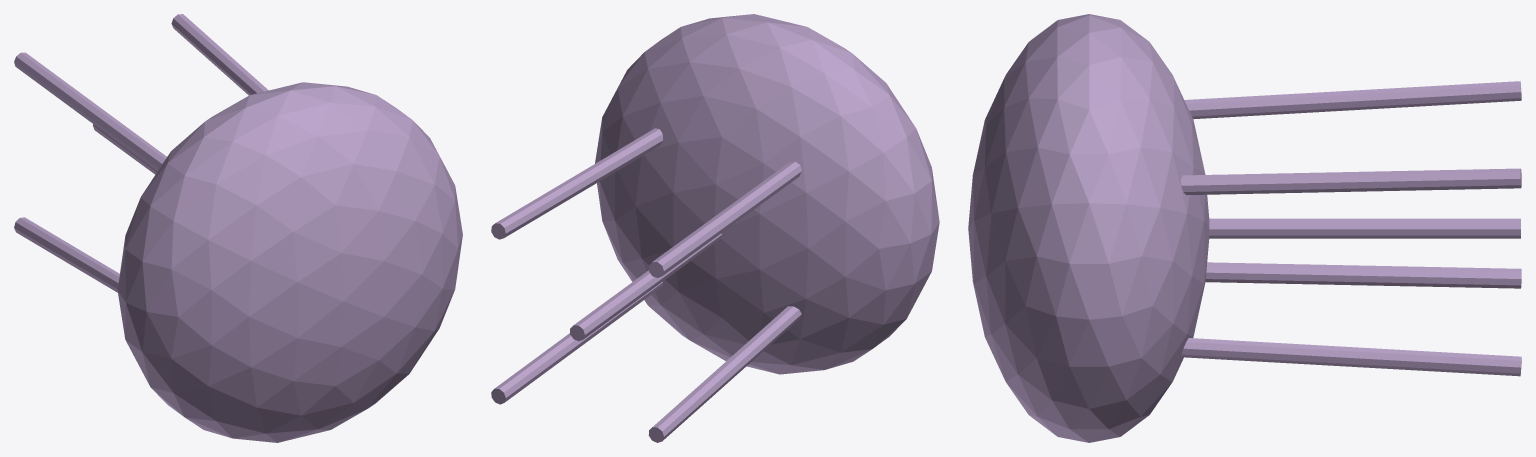
File: jellyfish.glb
3 renders of one model, left to right at view 1: azimuth 30°, elevation 25°; view 2: azimuth 150°, elevation 25°; view 3: azimuth 270°, elevation 25°, orthographic. The views are drawn at different scales.
Visible parts, largest first — view 1: world; view 2: world; view 3: world.
Boxes of the visible parts, x1,y1,x2,y2 form: world: [14, 14, 462, 442]; world: [491, 14, 939, 442]; world: [968, 14, 1521, 442].
Size of the model in its own units: 1.5 by 1.5 by 1.92.
